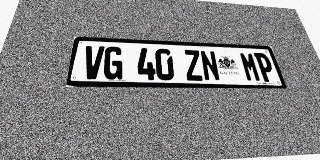0: (155, 48, 174, 80)
4: (137, 48, 156, 80)
G: (103, 46, 123, 80)
M: (239, 52, 262, 82)
N: (199, 50, 221, 81)
P: (253, 53, 277, 82)
V: (82, 46, 105, 79)
Z: (183, 50, 204, 81)
